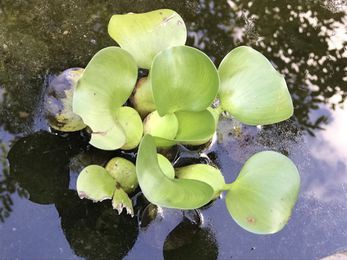water_hyacinth: (44, 6, 302, 236)
